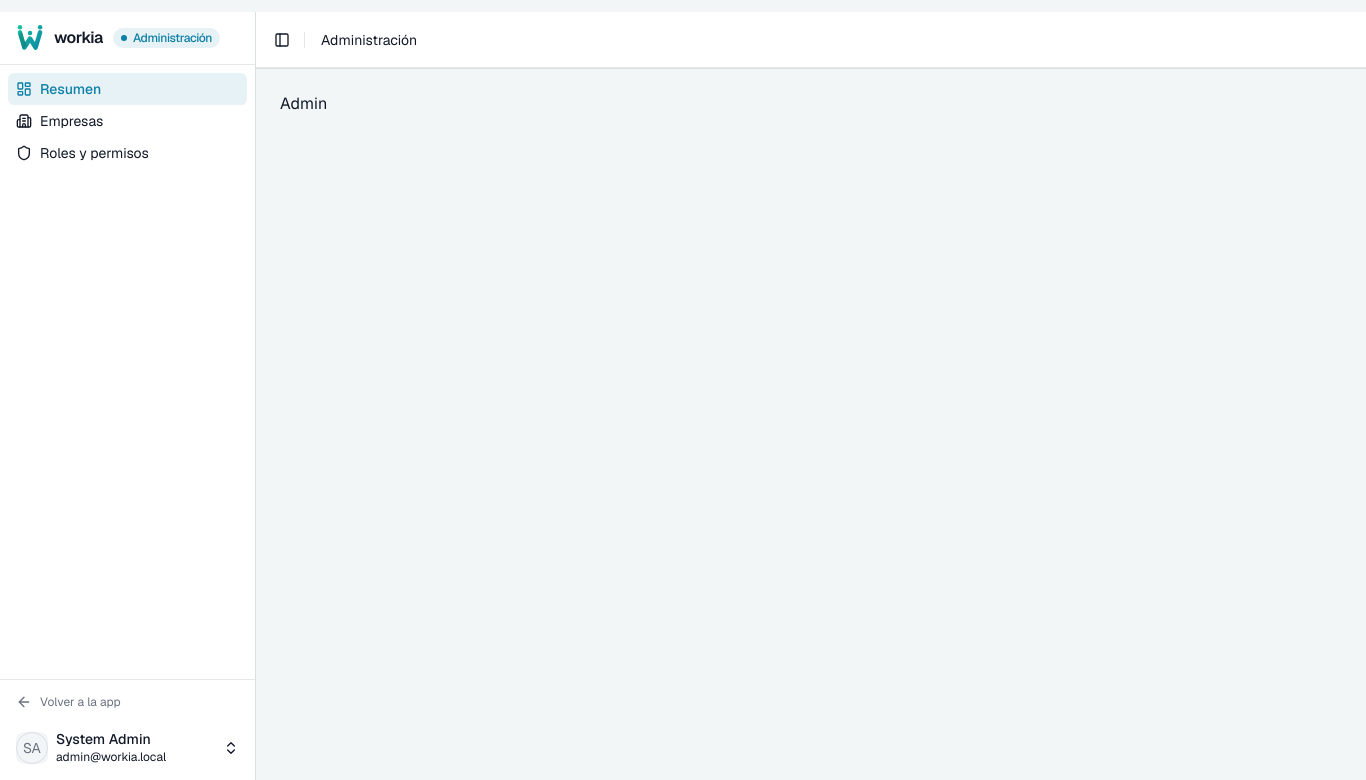
Test case: AdminShell › starts the top loader when navigating to Roles y permisos
The width and height of the screenshot is (1366, 780).
Click the link "Roles y permisos": x=82, y=153 [16,144,149,162]
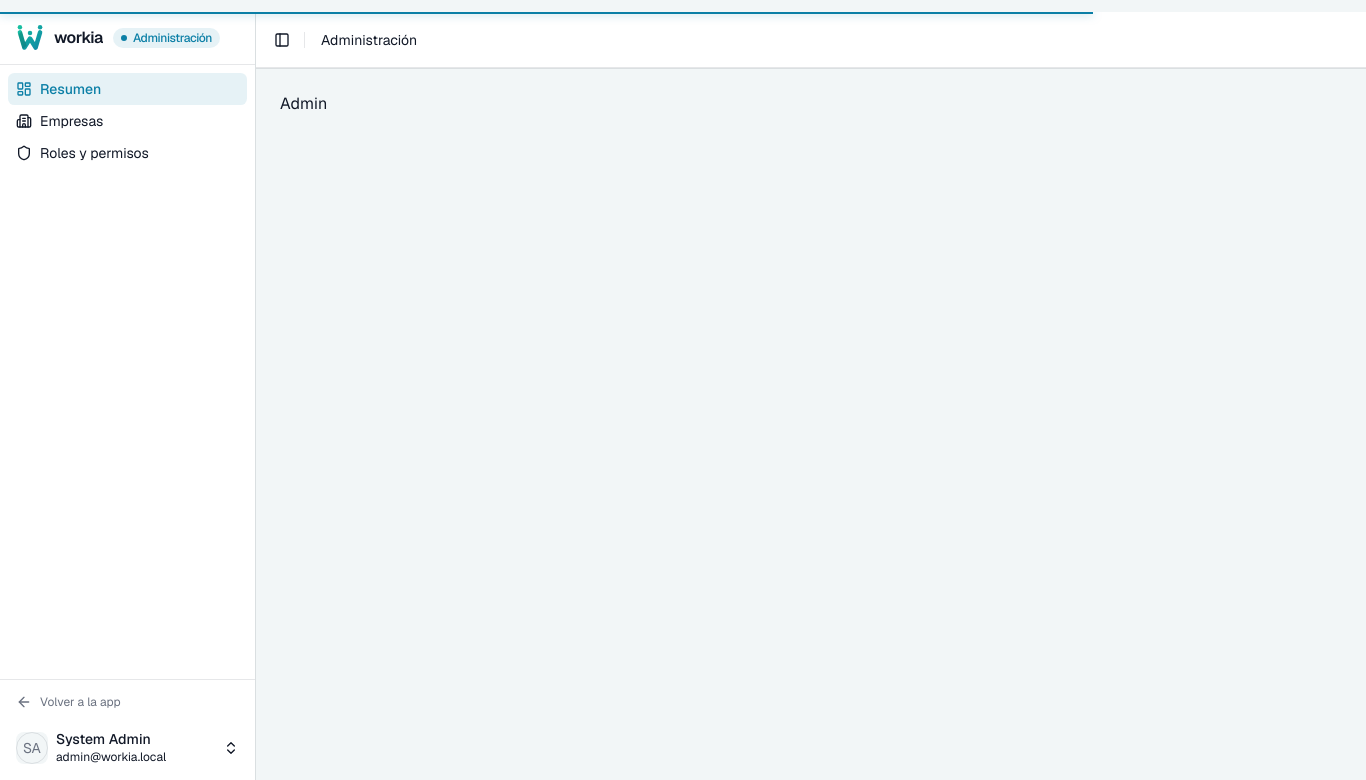
Expected: the element that starts with "workia" is shown, [0,12,256,779]
Result: the progress indicator named "Cargando página" is shown at [0,12,1093,14]
